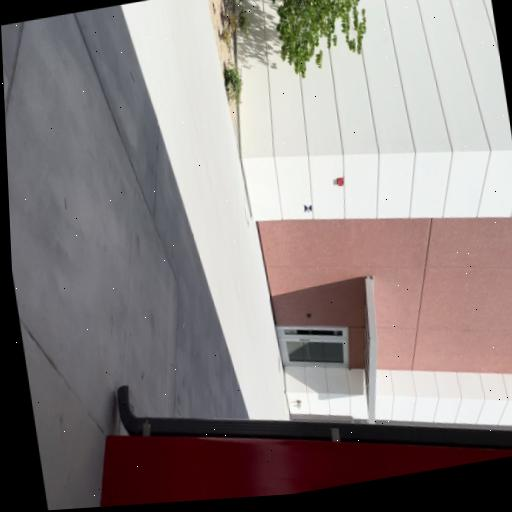target9: (304, 204, 312, 213)
